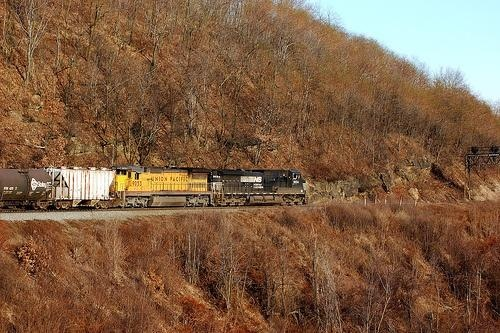train: (1, 168, 308, 209)
